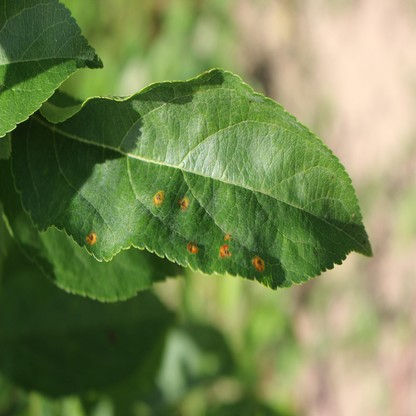rust: (218, 234, 230, 259), (252, 257, 265, 270), (154, 189, 164, 203), (86, 231, 97, 243), (178, 197, 188, 209), (188, 241, 197, 253)
